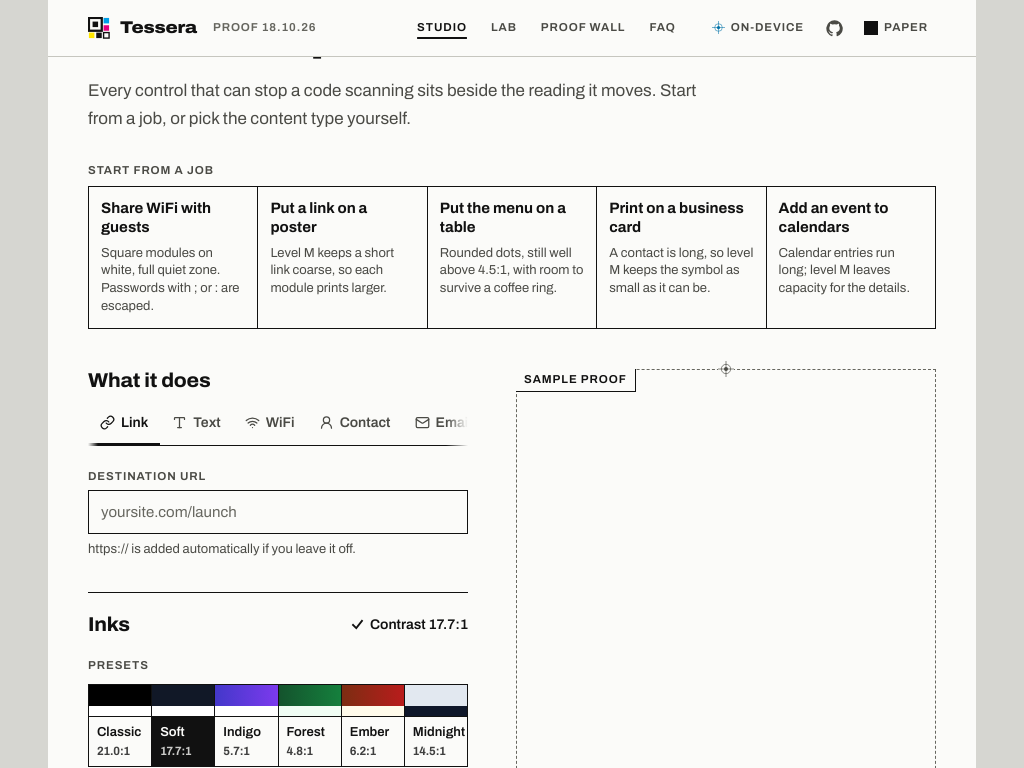
Test: App › switches forms when a different content type is chosen
The image size is (1024, 768).
(page scrolled)
Click the tab "WiFi": (270, 425) [233,404,307,445]
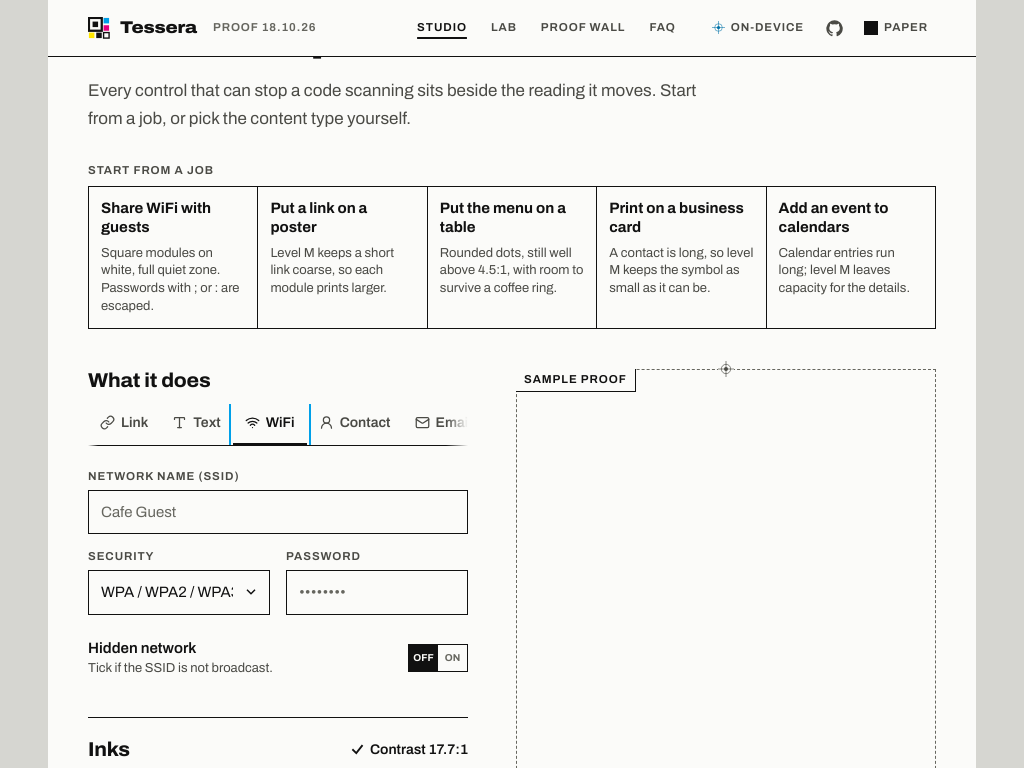
Expected: the field labelled "Network name (SSID)" is shown, [88,490,468,534]
Expected: the label labelled "Destination URL" is gone
